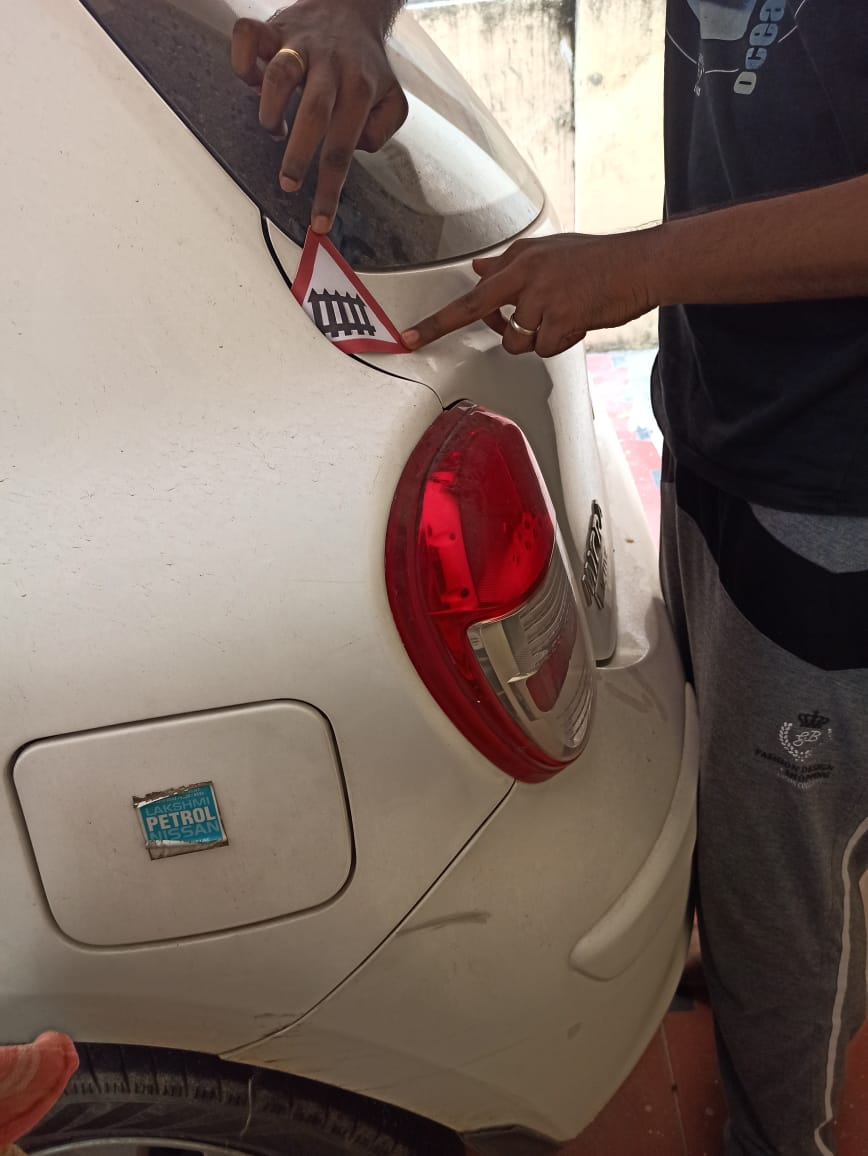GUARDED LEVEL CROSSING: (280, 219, 449, 373)
